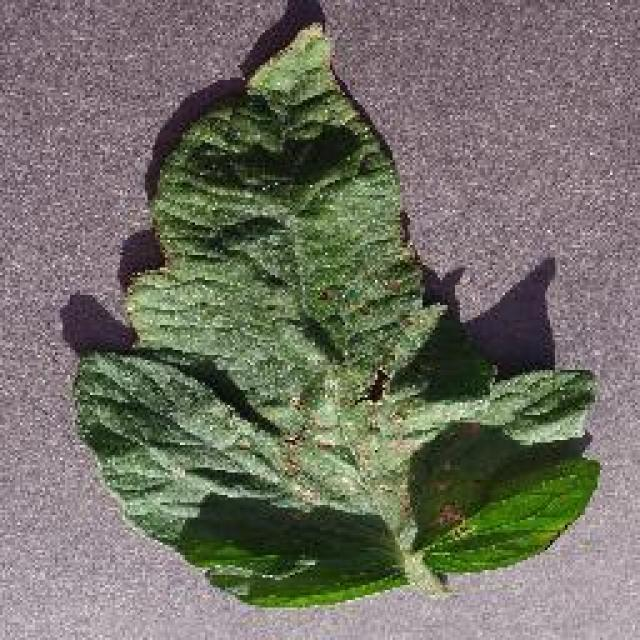Tomato Septoria spot leaf: (73, 19, 605, 611)
